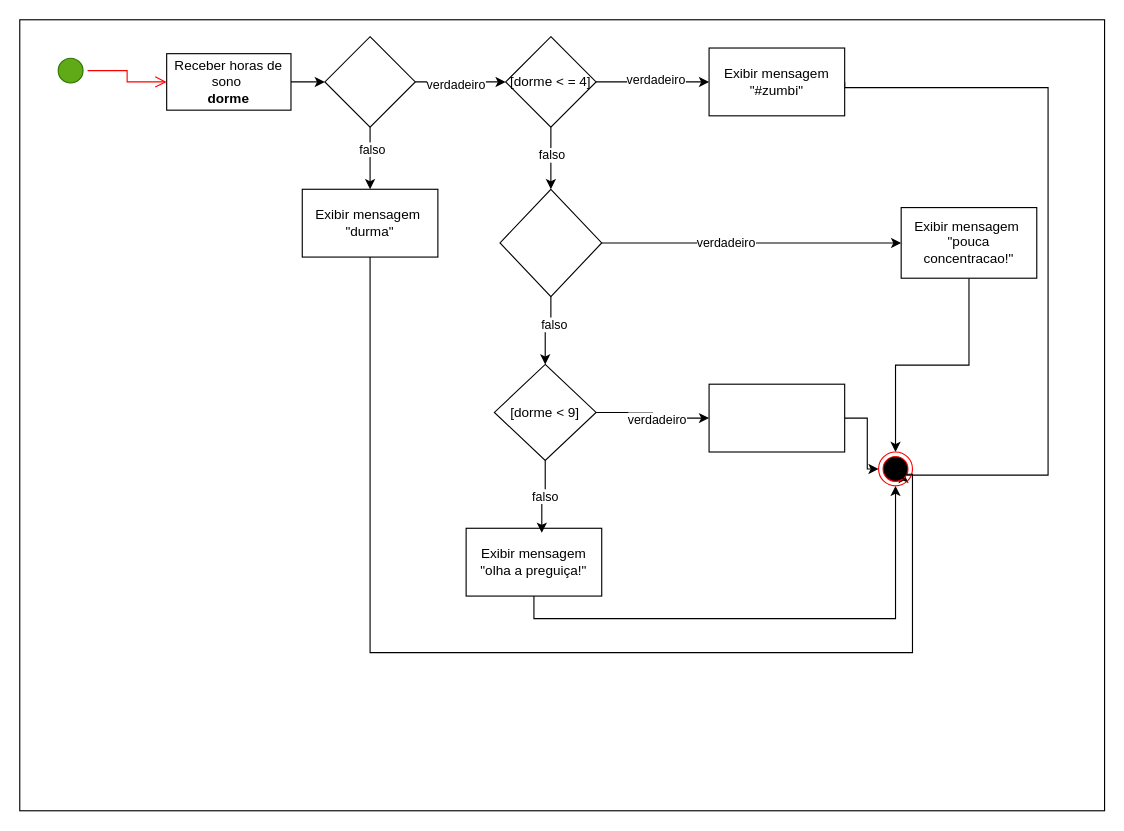
Some shapes in this 1124 by 831 pixel diagram are drawn without their labels. The centre of each missing label's shape, as x and y in pixels:
[dorme < 7 ]: pixel 550 242
[dorme > = 0: pixel 369 81
Exibir mensagem "boa concentracao!": pixel 776 417
